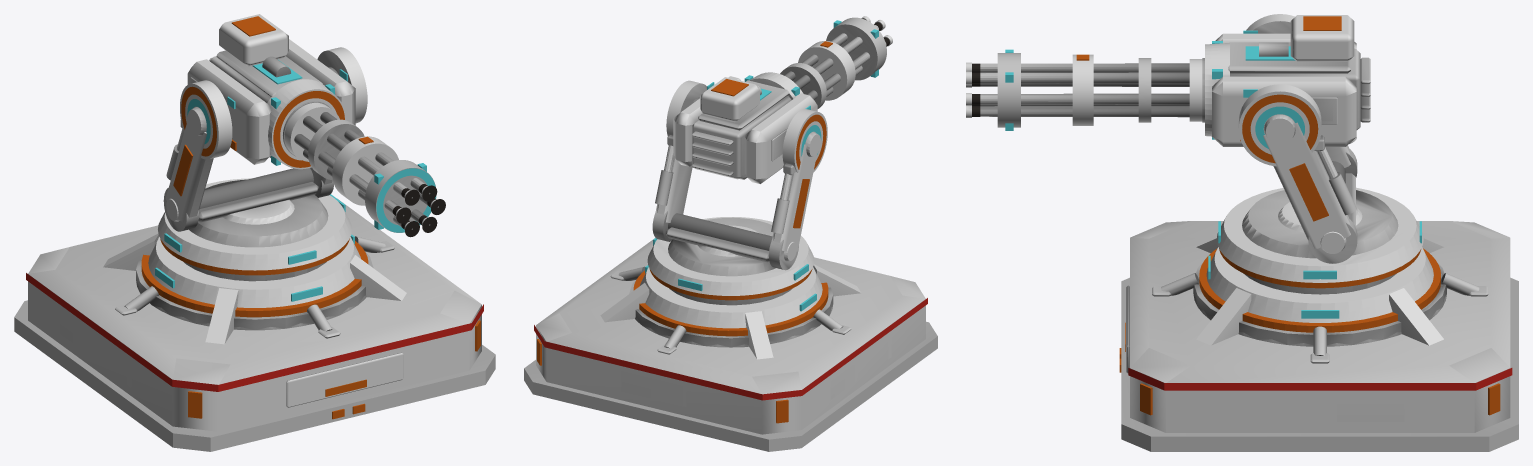
The model's file is gatling_1.glb.
The picture shows the model from 3 angles, left to right: view 1: azimuth 30°, elevation 25°; view 2: azimuth 150°, elevation 25°; view 3: azimuth 270°, elevation 25°; orthographic projection. The views are drawn at different scales.
Visible parts, largest first — view 1: Rumpf, Drehring, Waffe, Buendel, Arm; view 2: Rumpf, Waffe, Drehring, Arm, Buendel; view 3: Rumpf, Waffe, Drehring, Buendel, Arm.
Part boxes in pixels (x1=…): Rumpf: x1=14, y1=198, x2=495, y2=451; Drehring: x1=158, y1=168, x2=351, y2=275; Waffe: x1=187, y1=14, x2=355, y2=169; Buendel: x1=283, y1=101, x2=445, y2=237; Arm: x1=163, y1=47, x2=367, y2=231; Rumpf: x1=524, y1=238, x2=937, y2=451; Waffe: x1=673, y1=72, x2=817, y2=183; Drehring: x1=647, y1=213, x2=814, y2=300; Arm: x1=652, y1=80, x2=827, y2=270; Buendel: x1=780, y1=16, x2=892, y2=108; Rumpf: x1=1119, y1=221, x2=1518, y2=451; Waffe: x1=1205, y1=15, x2=1370, y2=146; Drehring: x1=1216, y1=161, x2=1423, y2=288; Buendel: x1=966, y1=49, x2=1204, y2=130; Arm: x1=1238, y1=14, x2=1357, y2=263.
Size of the model in its own units: 0.94 by 0.9002 by 1.31.
